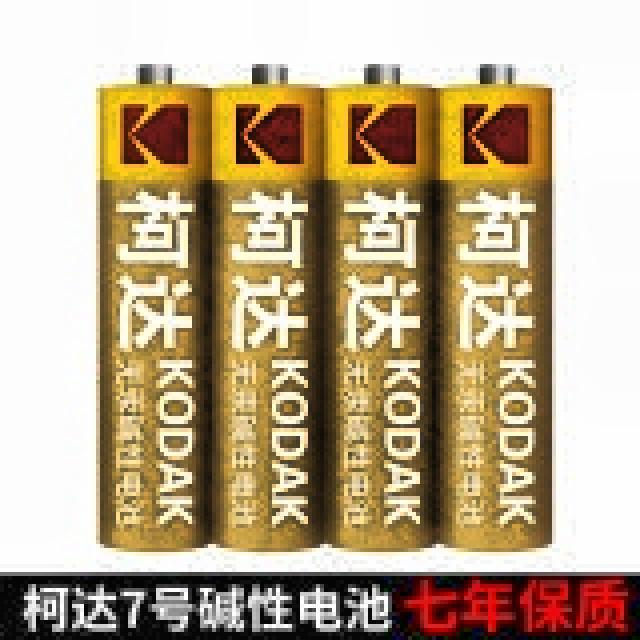Non-Valuable Waste - Batteries: (436, 64, 551, 549), (100, 64, 211, 549), (324, 64, 435, 549), (212, 64, 322, 549)
